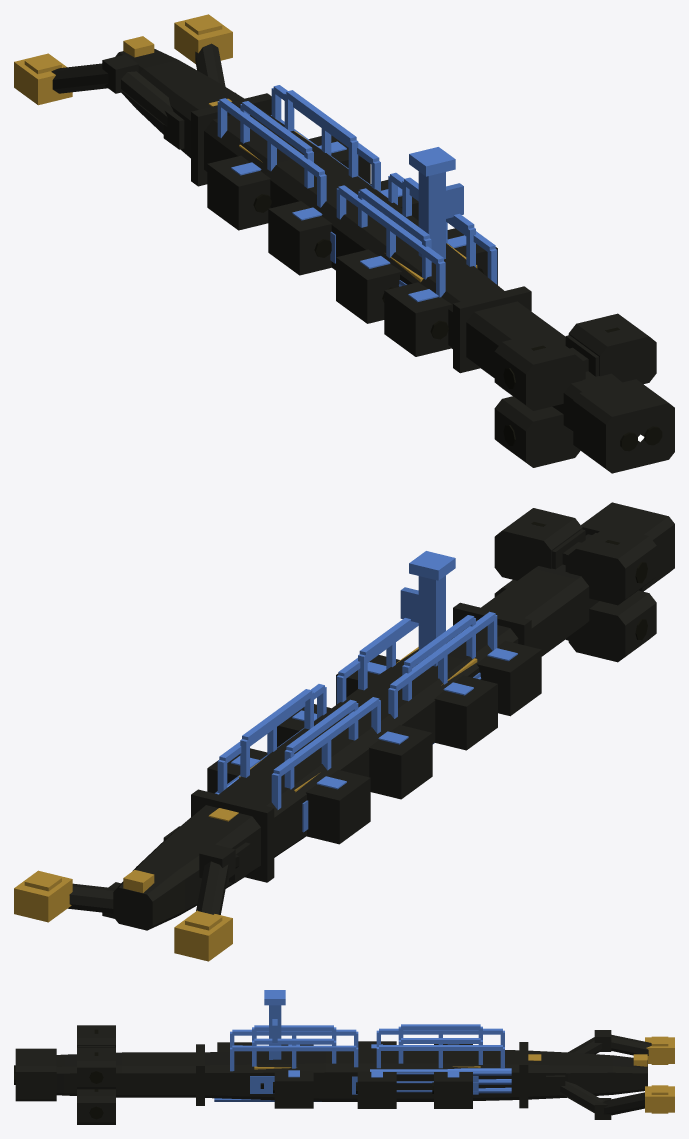
The picture shows the model from 3 angles, top to bottom: view 1: azimuth 30°, elevation 25°; view 2: azimuth 150°, elevation 25°; view 3: azimuth 270°, elevation 25°; orthographic projection. The views are drawn at different scales.
Visible parts, largest first — view 1: RIMWARD_HULL; view 2: RIMWARD_HULL; view 3: RIMWARD_HULL.
Boxes of the visible parts, <box> form: RIMWARD_HULL: <box>14,14,674,473</box>; RIMWARD_HULL: <box>14,502,674,961</box>; RIMWARD_HULL: <box>14,990,674,1124</box>.
Bounding box in the file's own units: 1.58 × 1.4 × 7.46.
